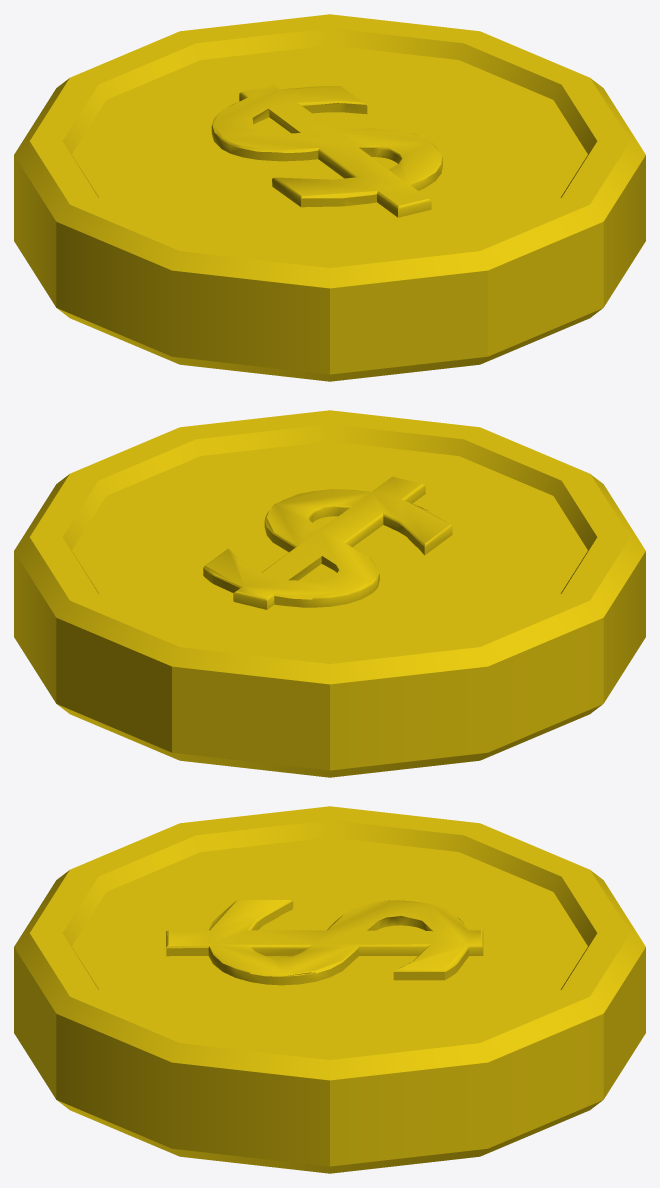
The model's file is koin.glb.
The picture shows the model from 3 angles, top to bottom: view 1: azimuth 30°, elevation 25°; view 2: azimuth 150°, elevation 25°; view 3: azimuth 270°, elevation 25°; orthographic projection.
Parts seen in each view (by area): view 1: Coin_new; view 2: Coin_new; view 3: Coin_new.
Part boxes in pixels (x1,y1,x2,y2): Coin_new: (14, 14, 645, 381); Coin_new: (14, 410, 645, 777); Coin_new: (14, 806, 645, 1173).
Bounding box in the file's own units: 2 × 0.3968 × 2.
